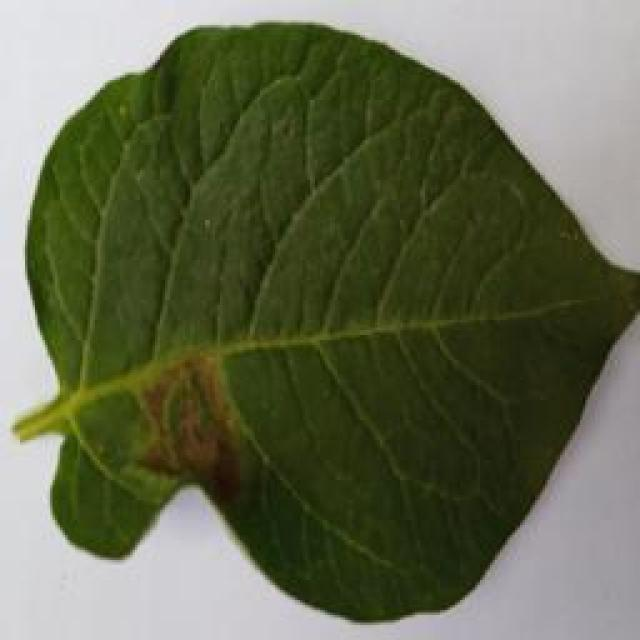Potato_Late_Blight: (5, 5, 627, 630)
